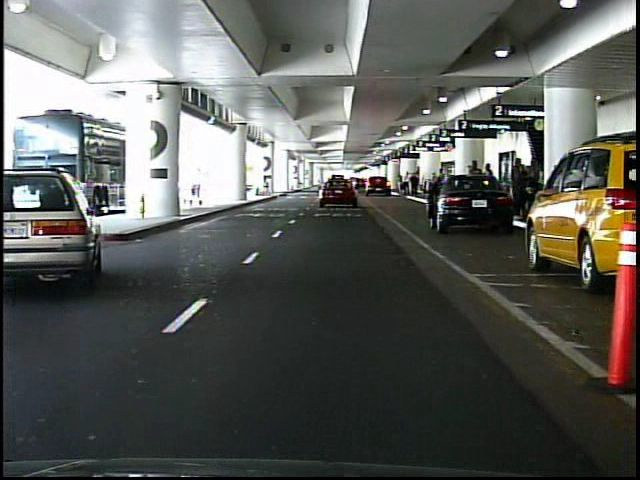person: (521, 155, 541, 221), (507, 158, 527, 215), (467, 157, 484, 210), (482, 161, 498, 212), (403, 170, 412, 197), (411, 173, 419, 198), (397, 175, 404, 193)
